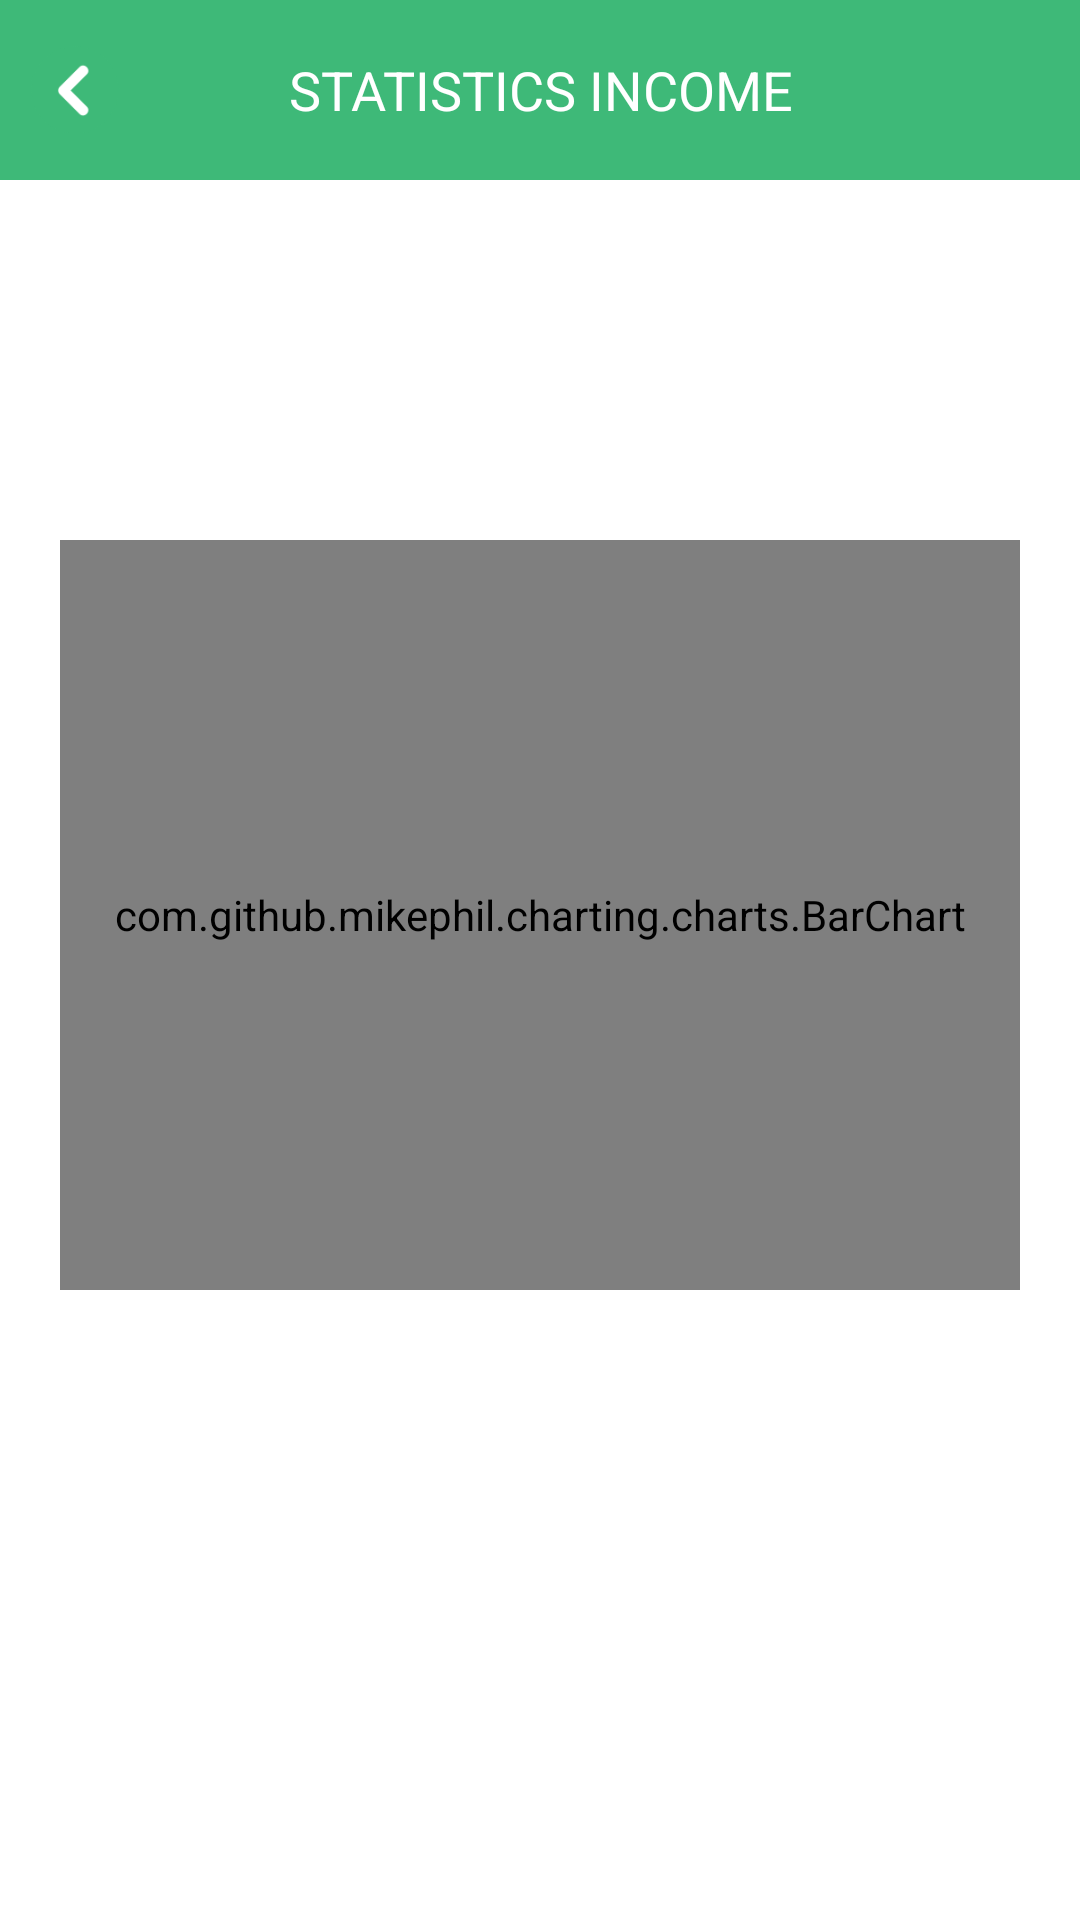

Icons on this 1080px×1920px Android screen, each with its box as (x1, y1, x2, y2):
back: (58, 65, 89, 116)
